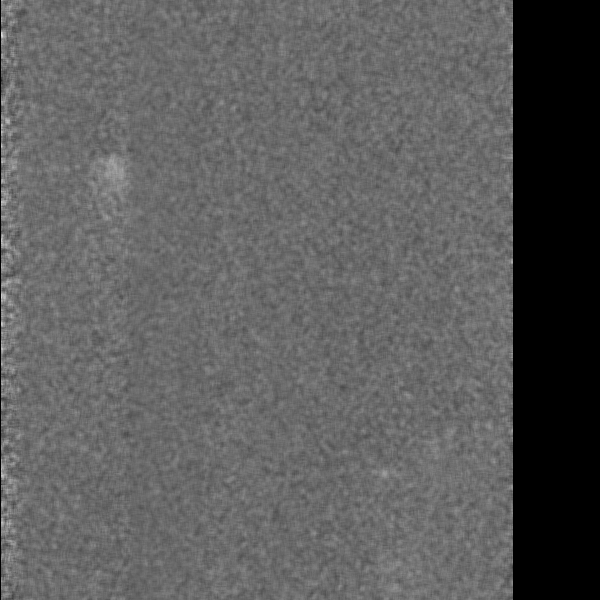spark: (102, 149, 125, 202)
